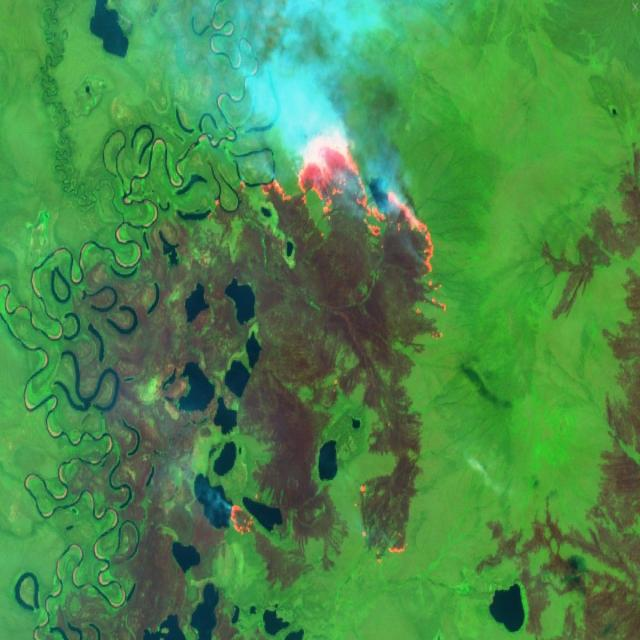fire: (237, 124, 451, 315)
